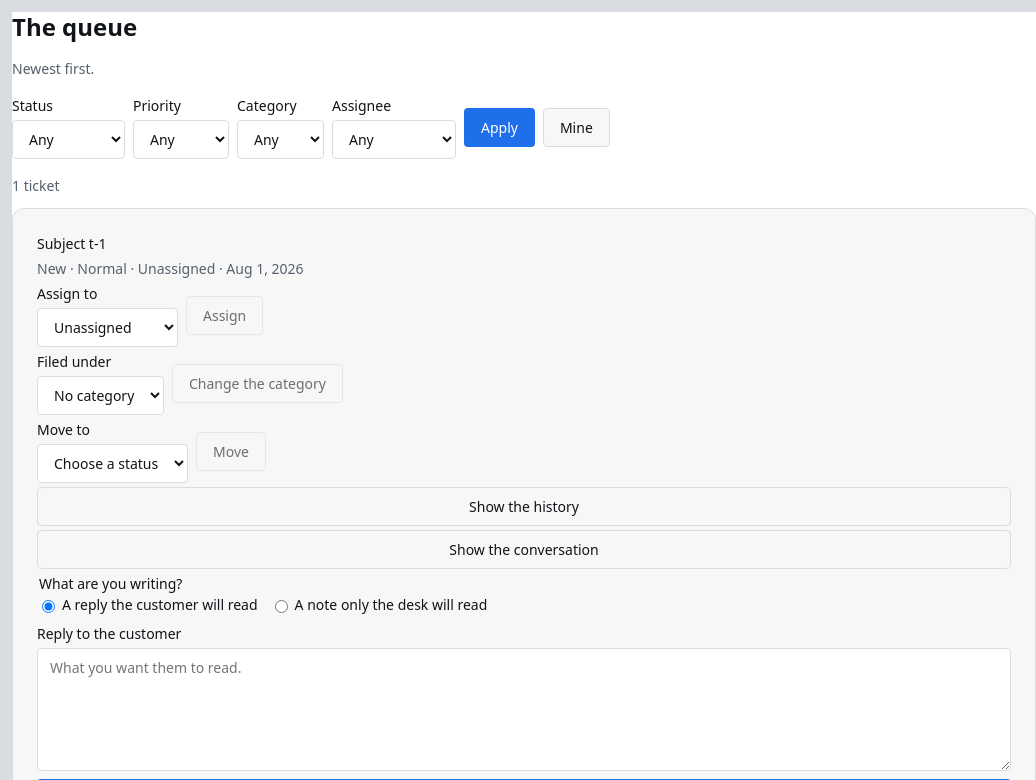
it is not reported as a failure, because nothing failed
Expected: the text "Subject t-1" is shown, x1=37 y1=234 x2=106 y2=253
Select "Sofia Martinez" in the dropdown labelled "Assign to". click: (108, 328)
box: x1=37 y1=308 x2=178 y2=347
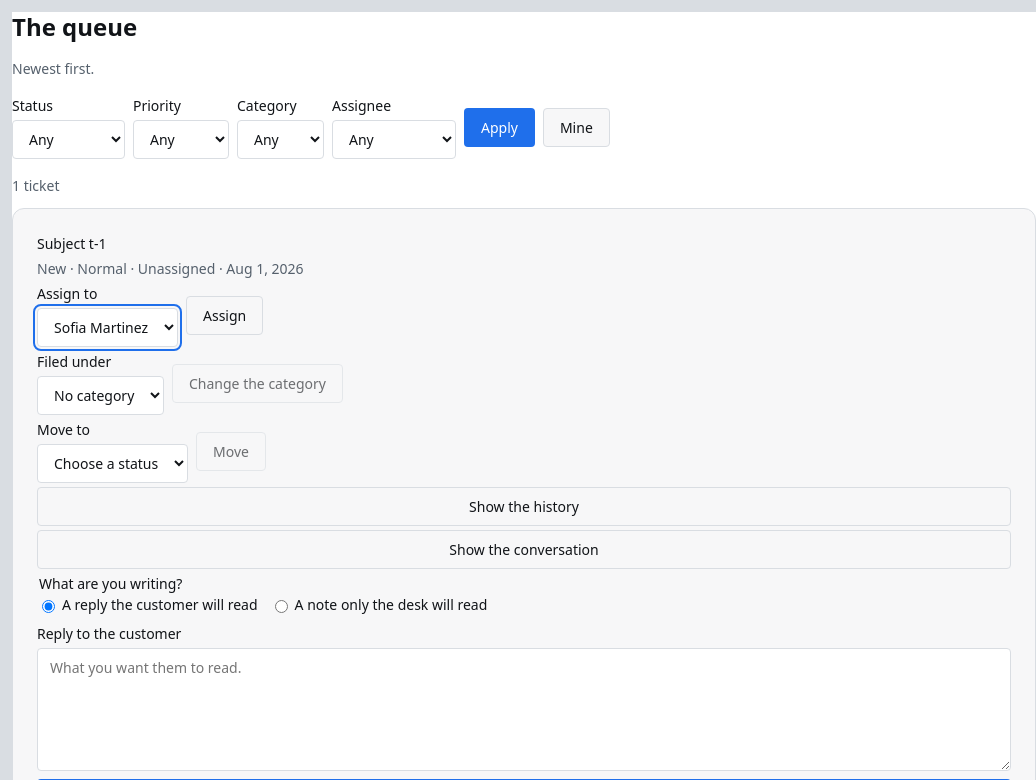
Click the button "Assign". click: (225, 315)
box: x1=186 y1=296 x2=263 y2=334
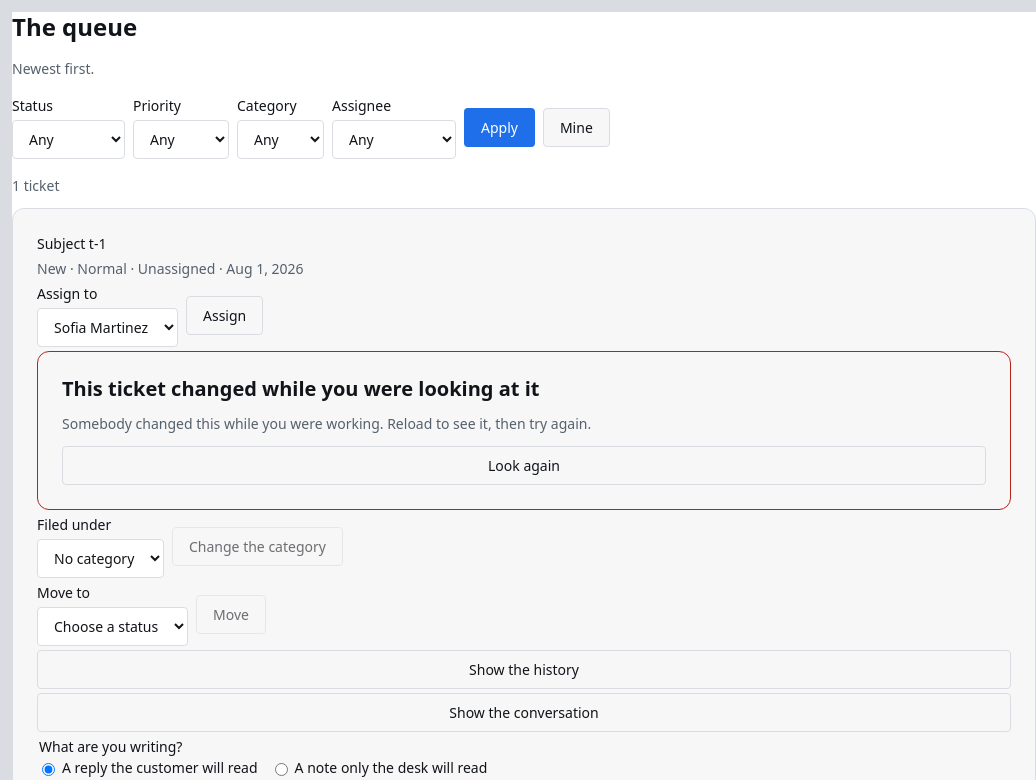
Expected: the heading "This ticket changed while you were looking at it" is shown, x1=62 y1=375 x2=539 y2=402
